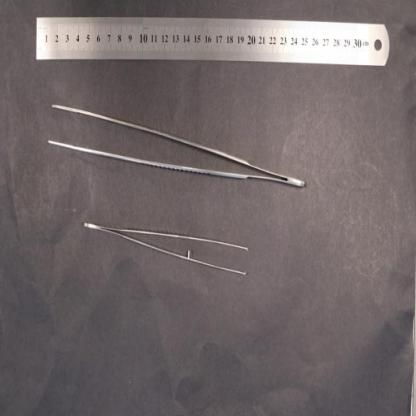DeBakey Dissector: (47, 104, 306, 188)
Gillies Toothed Dissector: (84, 222, 248, 276)
